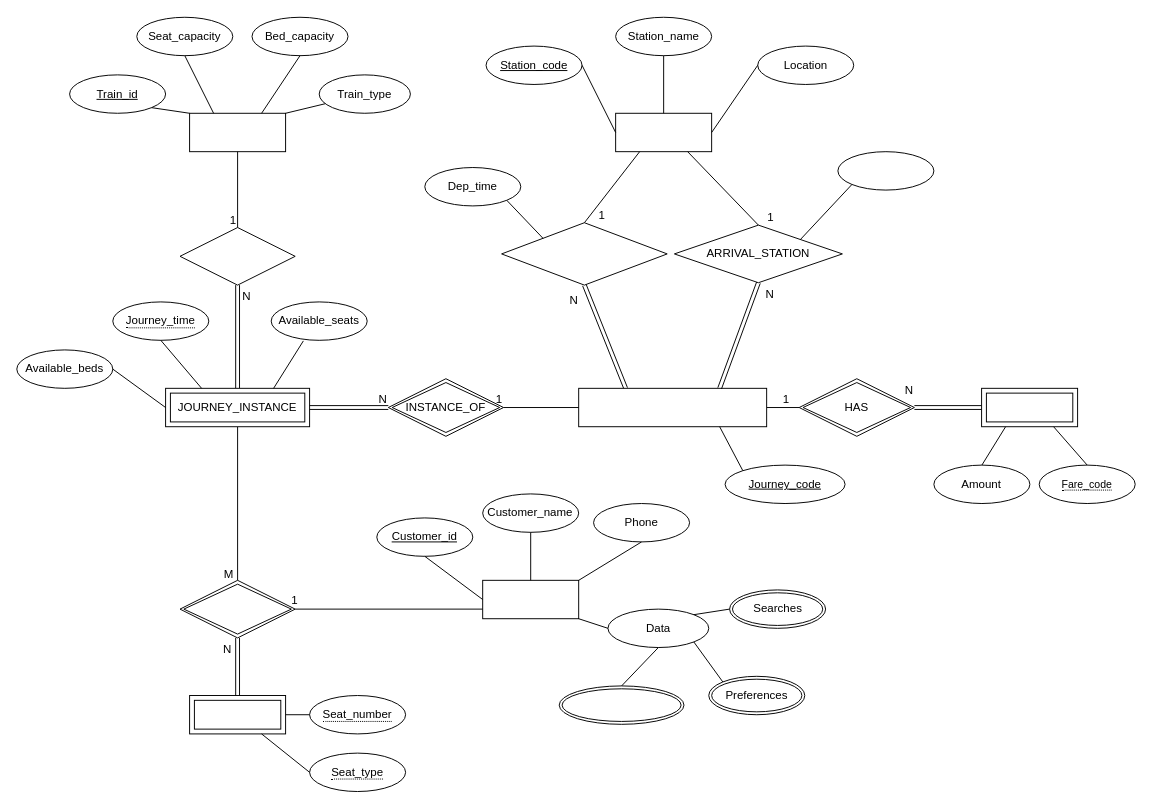
The diagram is 1152 pixels wide and 808 high, and some of its shapes have lost their labels. The shapes that lost their labels are listed below. From the top down, each one's centre as x and y in pixels, then its label:
point (237, 132): TRAIN
point (663, 132): STATION
point (885, 170): Arr_time
point (237, 256): ASSIGNED
point (584, 253): DEPARTURE_STATION
point (672, 407): SCHEDULED_TCDD_JOURNEYS
point (1029, 407): FARE
point (237, 608): RESERVATION
point (530, 599): CUSTOMER
point (237, 714): SEAT
point (621, 704): Transportation_history
